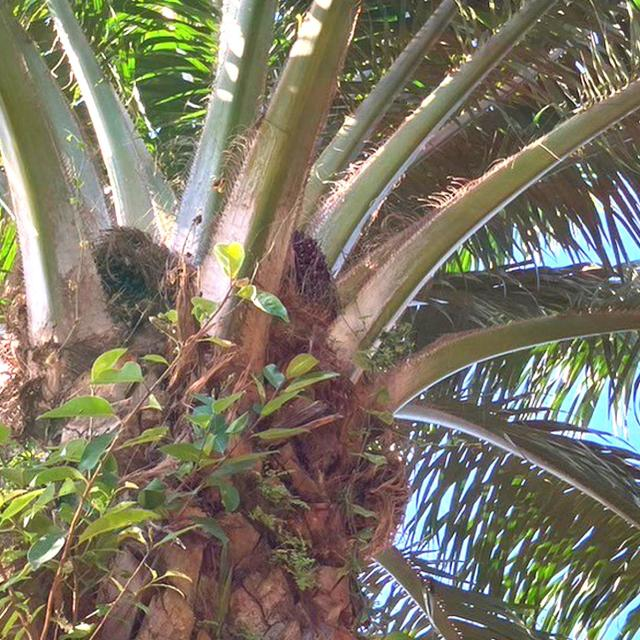almost: (282, 216, 348, 338)
